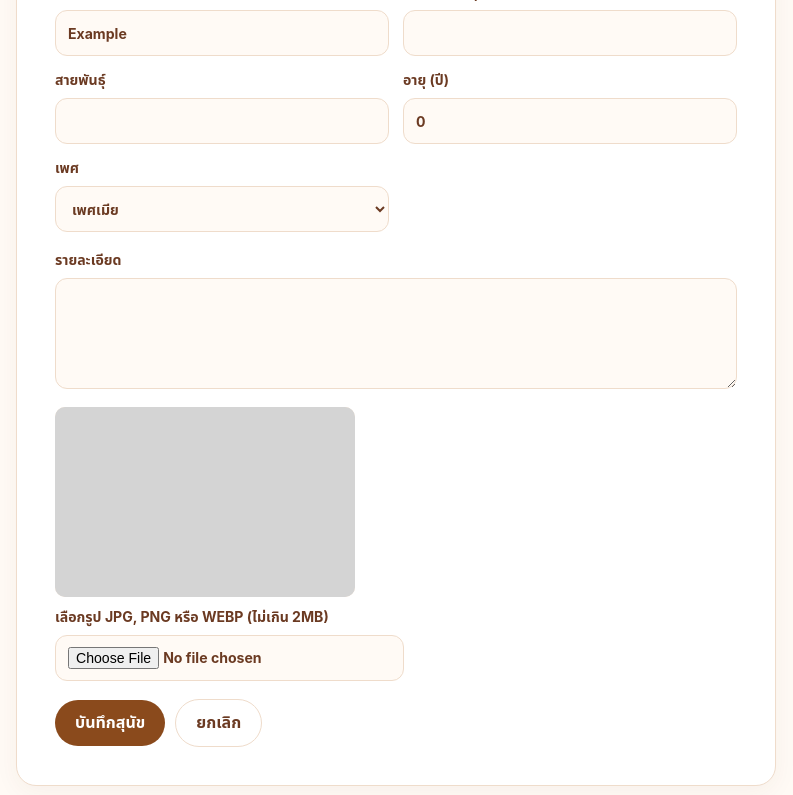
DogFormPage › blocks repeated saves while uploading and shows an error without creating a dog
Earlier steps of the test are not shown.
(page scrolled)
Click the button "บันทึกสุนัข" at [110, 723], box [55, 700, 165, 746]
(page scrolled)
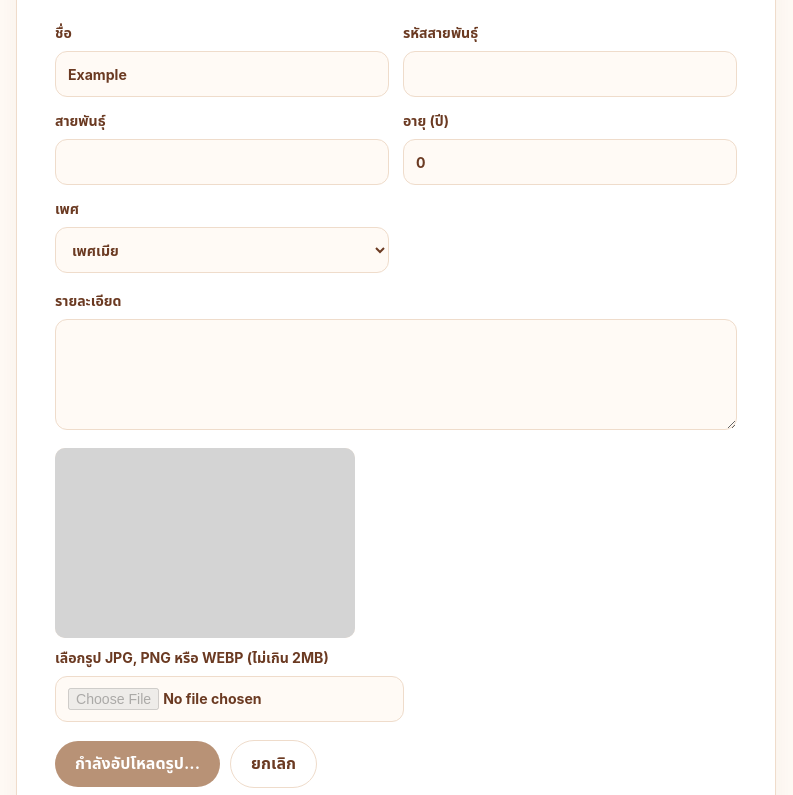
Result: the button "กำลังอัปโหลดรูป..." is disabled at [55, 741, 220, 787]
Submit the form named "กำลังอัปโหลดรูป..."
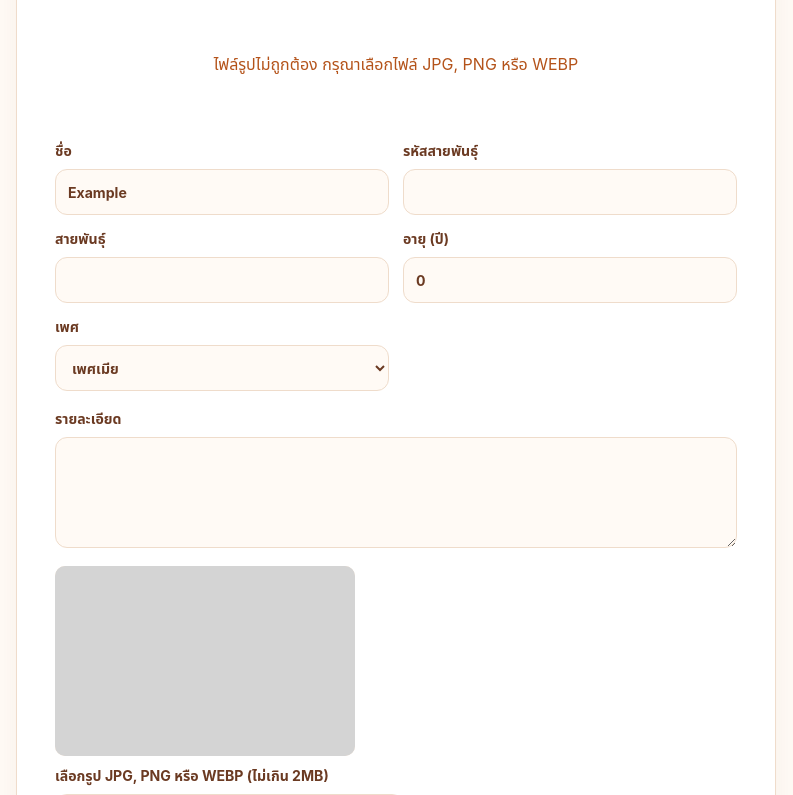
Result: the message shows "ไฟล์รูปไม่ถูกต้อง" at [214, 54, 578, 74]
